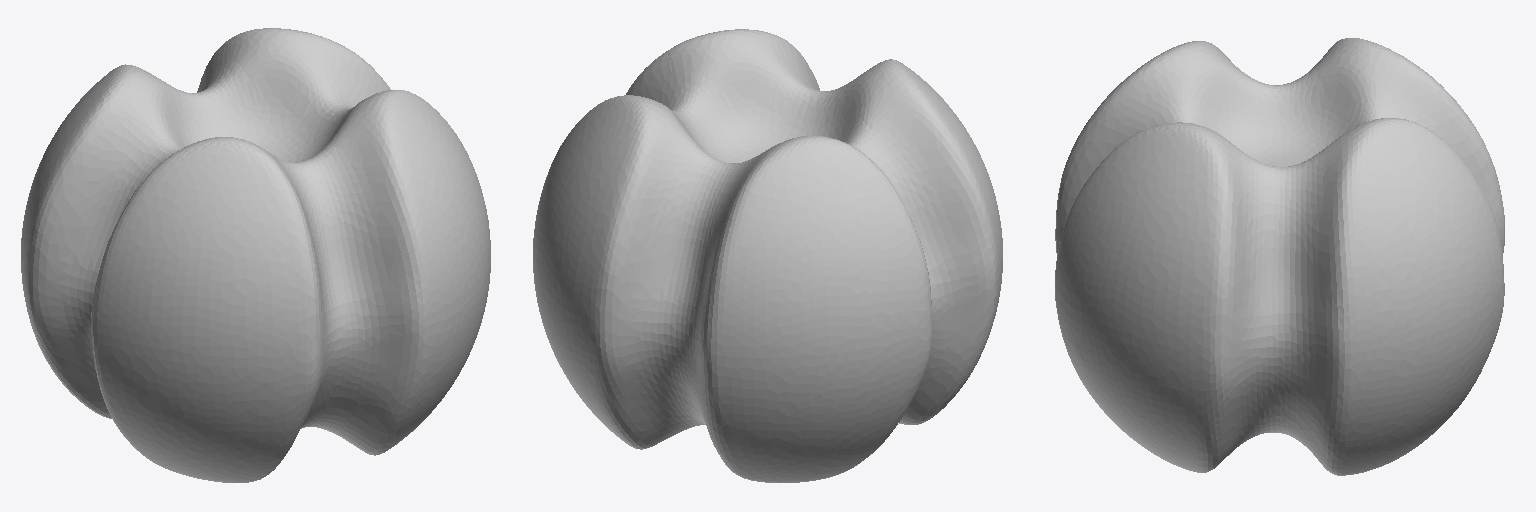
Rendered from grow-3.obj.
3 views of the same model, side by side, from view 1: azimuth 30°, elevation 25°; view 2: azimuth 150°, elevation 25°; view 3: azimuth 270°, elevation 25° (orthographic).
Visible parts, largest first — view 1: Quad_Sphere; view 2: Quad_Sphere; view 3: Quad_Sphere.
Part boxes in pixels (x1,y1,x2,y2): Quad_Sphere: (21,28,490,482); Quad_Sphere: (533,29,1002,482); Quad_Sphere: (1055,38,1504,475).
Bounding box in the file's own units: 2.46 × 2.06 × 2.46.